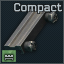Compact Mount adapter for sights: (0, 0, 64, 64)
